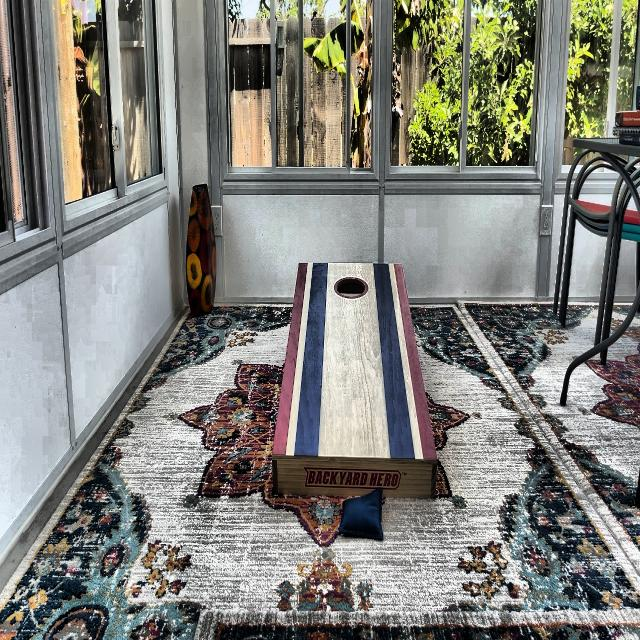blue-bean-bag: (338, 483, 382, 542)
board: (292, 264, 410, 455)
